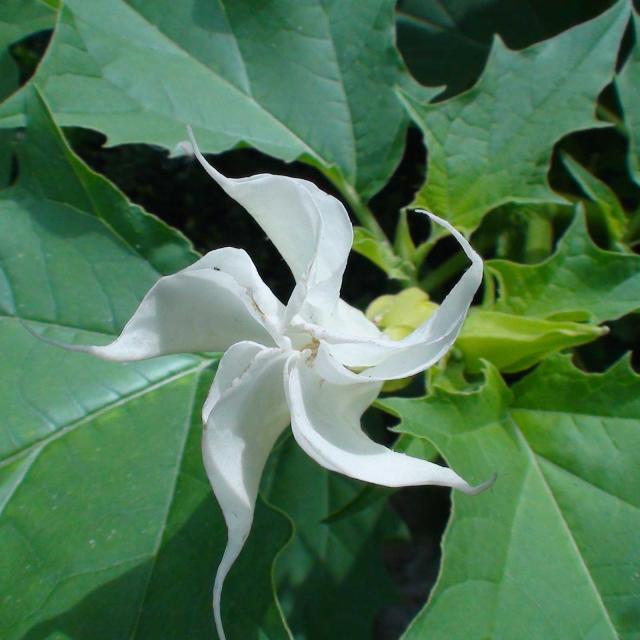Poisonous-Datura_Stramonium: (115, 176, 540, 614), (0, 0, 640, 209)
